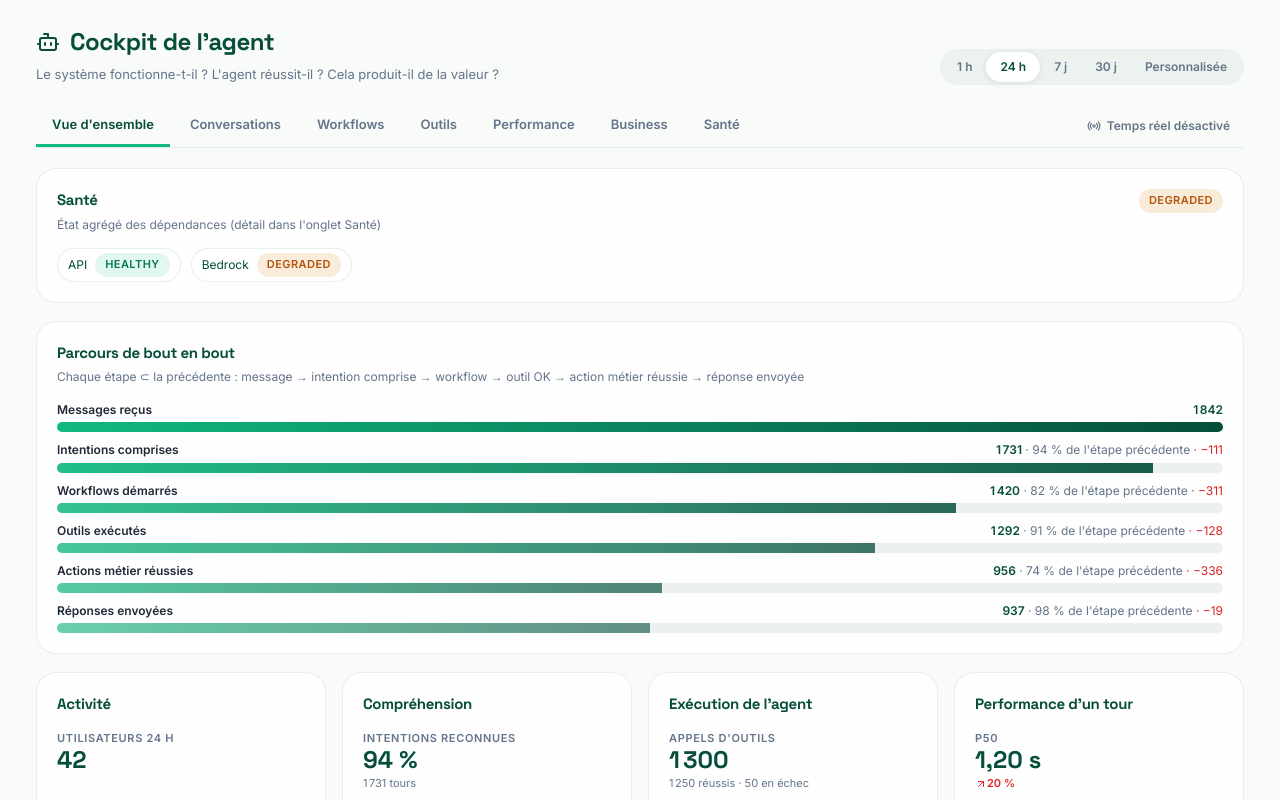
Vue d'ensemble › le mode temps réel ouvre le flux
The width and height of the screenshot is (1280, 800).
Expected: the list with test id "funnel" is shown, [57, 400, 1223, 633]
Click the button with test id "live-toggle". click: [1158, 126]
box: [1073, 111, 1244, 141]
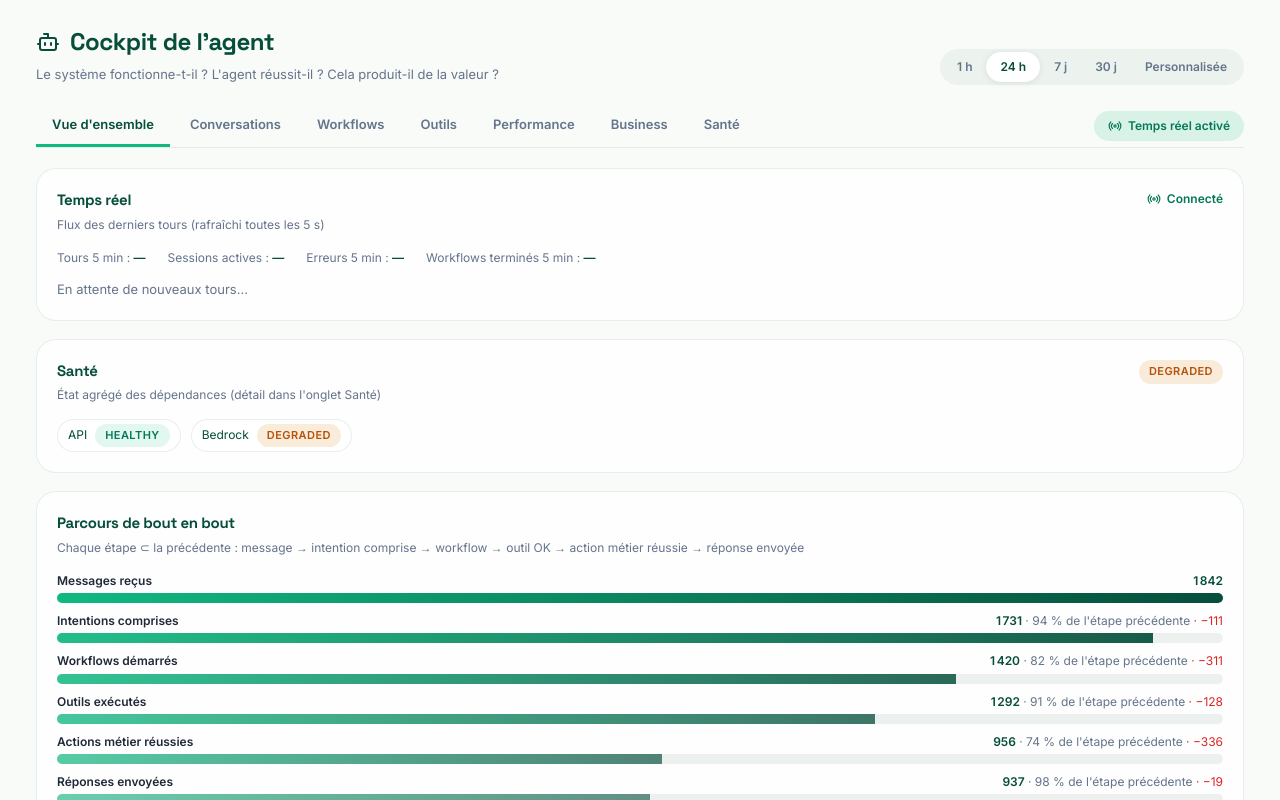
Expected: the element with test id "live-feed" is shown, [36, 168, 1244, 321]
Expected: the text "Connecté" is shown, [1147, 189, 1223, 208]
Expected: the text "En attente de nouveaux tours…" is shown, [57, 281, 248, 297]
